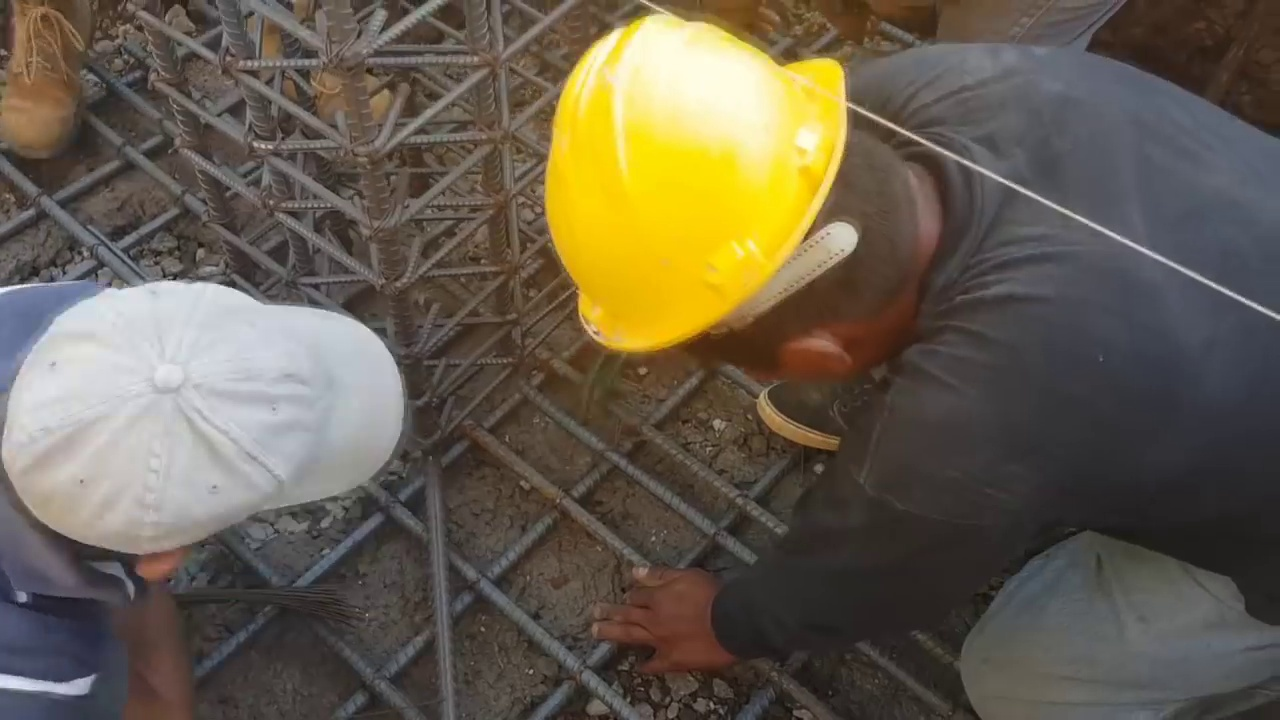helmet: (541, 14, 847, 353)
helmet-off: (1, 273, 405, 585)
helmet-on: (543, 11, 961, 394)
person: (538, 14, 1280, 717), (0, 268, 406, 719)
